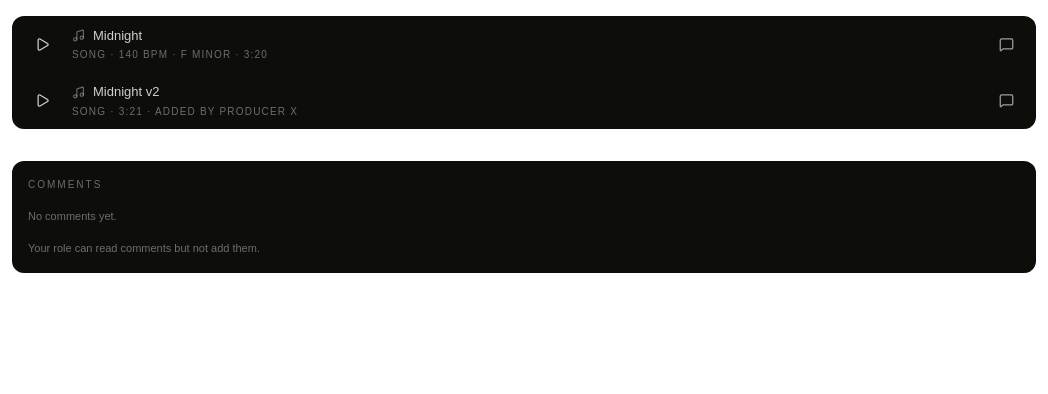
Scenario: SharedProjectView › every role has a comments entry per recording that opens inline, and a project discussion
The width and height of the screenshot is (1048, 394).
Expected: the element with test id "org-comments" is shown, [28, 179, 260, 254]
Click the button named "Comments on Midnight": (1006, 44) [988, 26, 1024, 62]
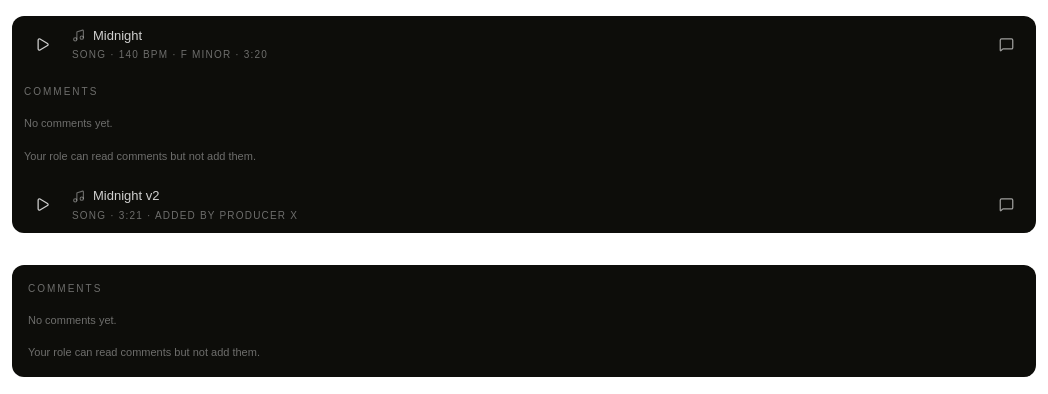
Expected: the number of elements with test id "org-comments" is 2, [24, 86, 256, 162]; [28, 283, 260, 358]
